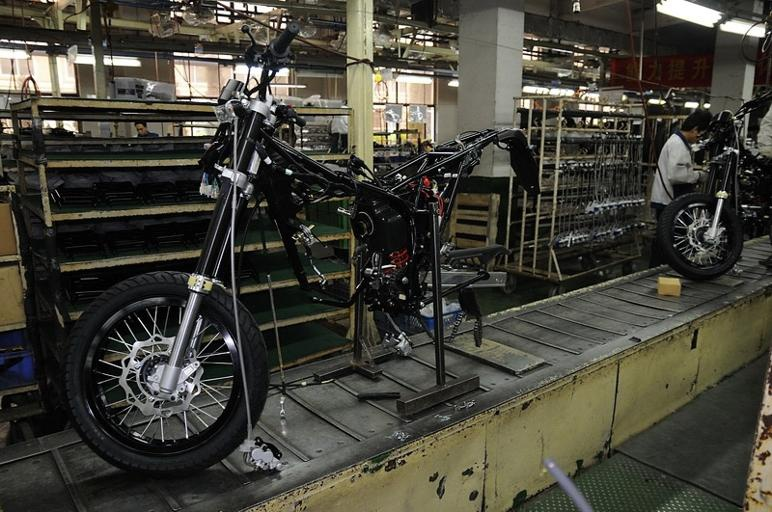non-vehicle: (57, 16, 545, 477), (650, 86, 771, 284)
